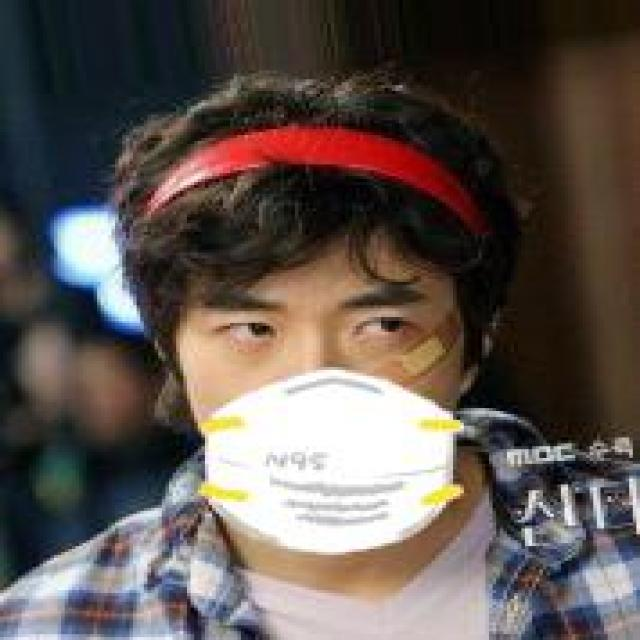mask: (104, 59, 543, 549)
